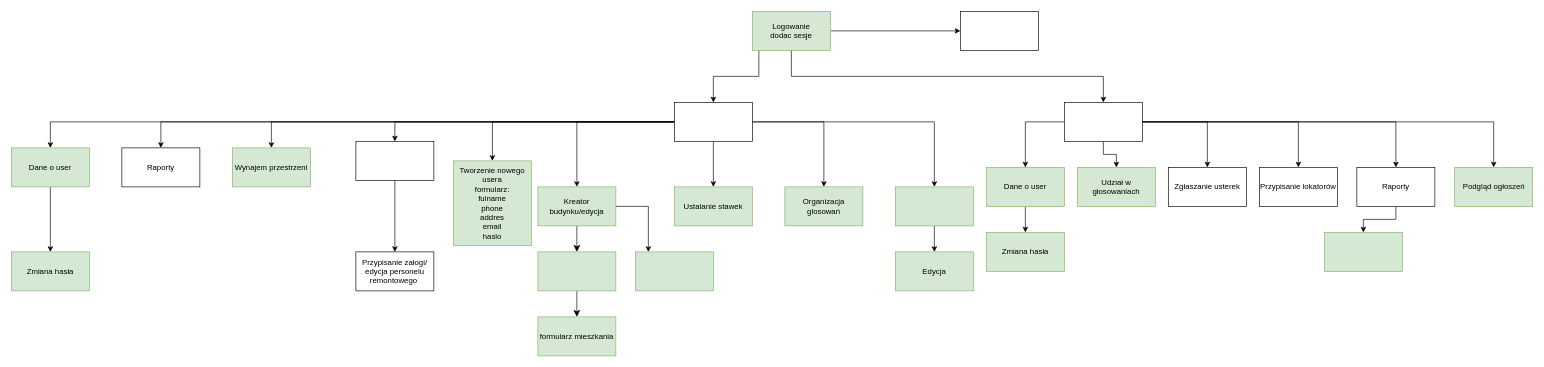
The diagram is 1544 pixels wide and 367 high, and some of its shapes have lost their labels. The centre of each missing label's shape, as x and y in pixels:
"formularz budynku" goes at point (576, 271).
"Informacje o stawkach" goes at point (1363, 251).
"Odzyskanie hasła" goes at point (999, 30).
"Panel admina" goes at point (713, 121).
"Panel usera" goes at point (1103, 121).
"Podgląd budynku" goes at point (674, 271).
"Tworzenie ogłoszeń" goes at point (934, 206).
"Zarządzanie usterkami" goes at point (394, 160).
